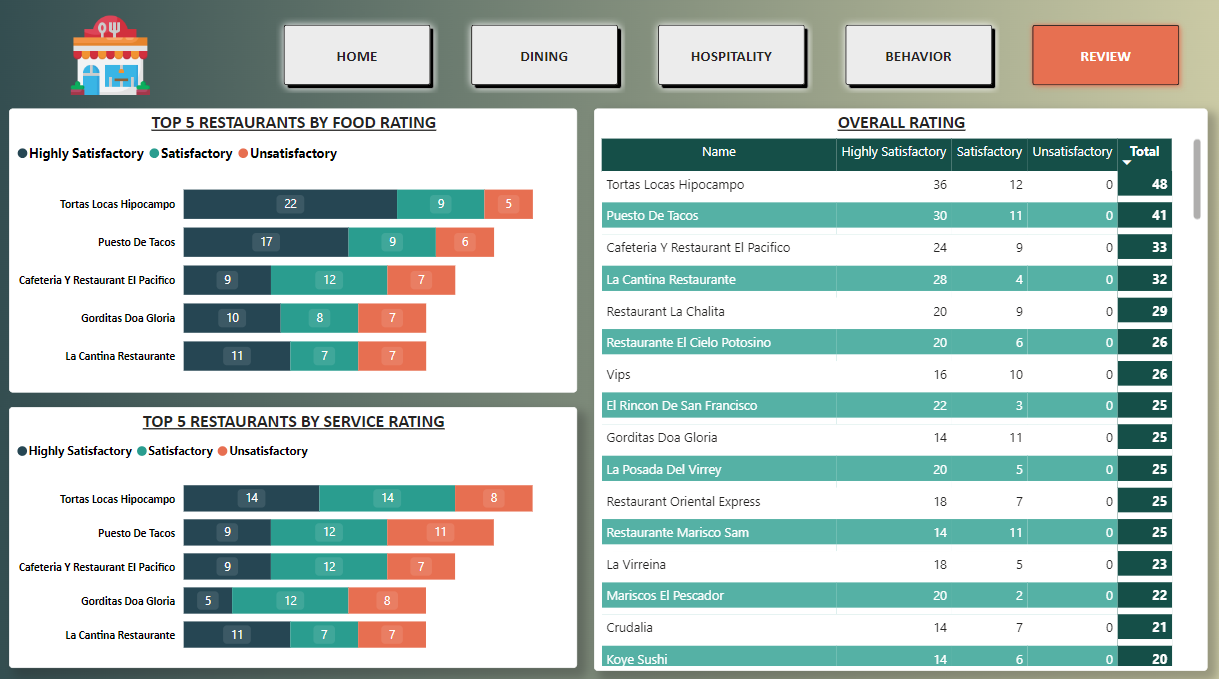

The dashboard page shown, as its layout file describes it:
{"tool":"powerbi","page":{"name":"REVIEW","canvas":[1280,720],"ordinal":4},"visuals":[{"type":"barChart","title":"TOP 5 RESTAURANTS BY SERVICE RATING","fields":{"Category":["restaurants.Name"],"Y":["CountNonNull(ratings.Consumer_ID)"],"Series":["ratings.Service_Rating_Category"]},"box":[16,432,592,272],"z":0},{"type":"barChart","title":"TOP 5 RESTAURANTS BY FOOD RATING","fields":{"Category":["restaurants.Name"],"Y":["CountNonNull(ratings.Consumer_ID)"],"Series":["ratings.Food_Rating_Category"]},"box":[15.9,119.8,592.3,296.2],"z":1000},{"type":"pivotTable","title":"OVERALL RATING","fields":{"Rows":["restaurants.Name"],"Columns":["ratings.Overall_Rating_Category"],"Values":["Sum(ratings.Overall_Rating)"]},"box":[625.3,119.8,639.6,586.3],"z":2000},{"type":"image","box":[70.3,12.5,101.6,104.7],"z":3000},{"type":"pageNavigator","box":[293.8,25,950.3,79.7],"z":4000}]}

Visuals, with their boxes in screenshot pixels (x1, y1, x2, y2), scaled from the page's 1280x720 canvas onto the 1219x679 screenshot:
"TOP 5 RESTAURANTS BY SERVICE RATING" barChart: Rect(15, 407, 579, 664)
"TOP 5 RESTAURANTS BY FOOD RATING" barChart: Rect(15, 113, 579, 392)
"OVERALL RATING" pivotTable: Rect(596, 113, 1205, 666)
image: Rect(67, 12, 164, 111)
pageNavigator: Rect(280, 24, 1185, 99)
